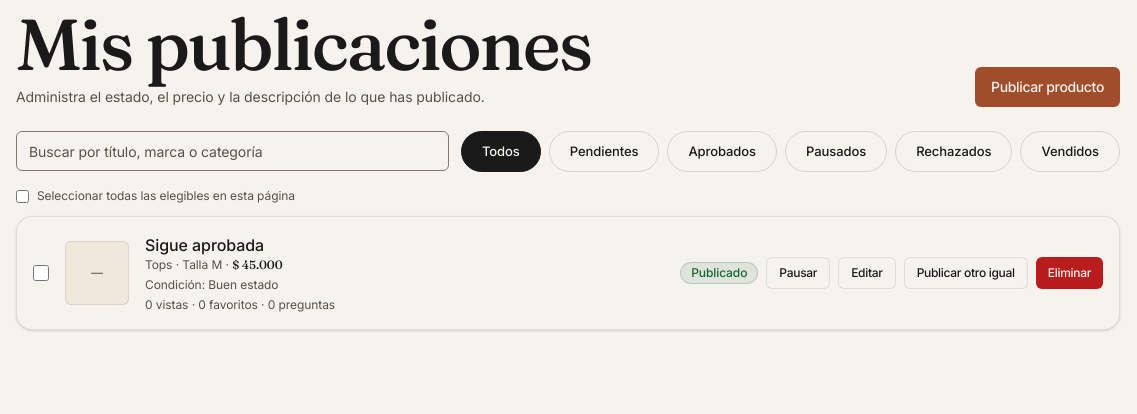
MisProductosPage › deshabilita Reactivar seleccionadas cuando ninguna seleccionada se puede reactivar
Expected: the element with test id "mine-product-p34" is shown, 16,216 -> 1120,330
Click the checkbox named "seleccionar sigue aprobada". click: [41, 273]
box: 33,265 -> 49,281
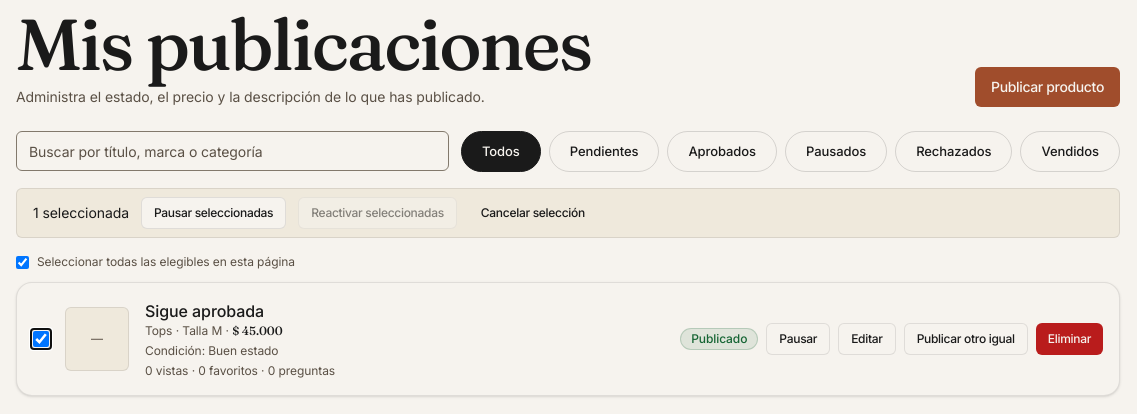
Now the button "Reactivar seleccionadas" is disabled, box 298,197 -> 457,229
Now the button "Pausar seleccionadas" is enabled, box 141,197 -> 286,229
